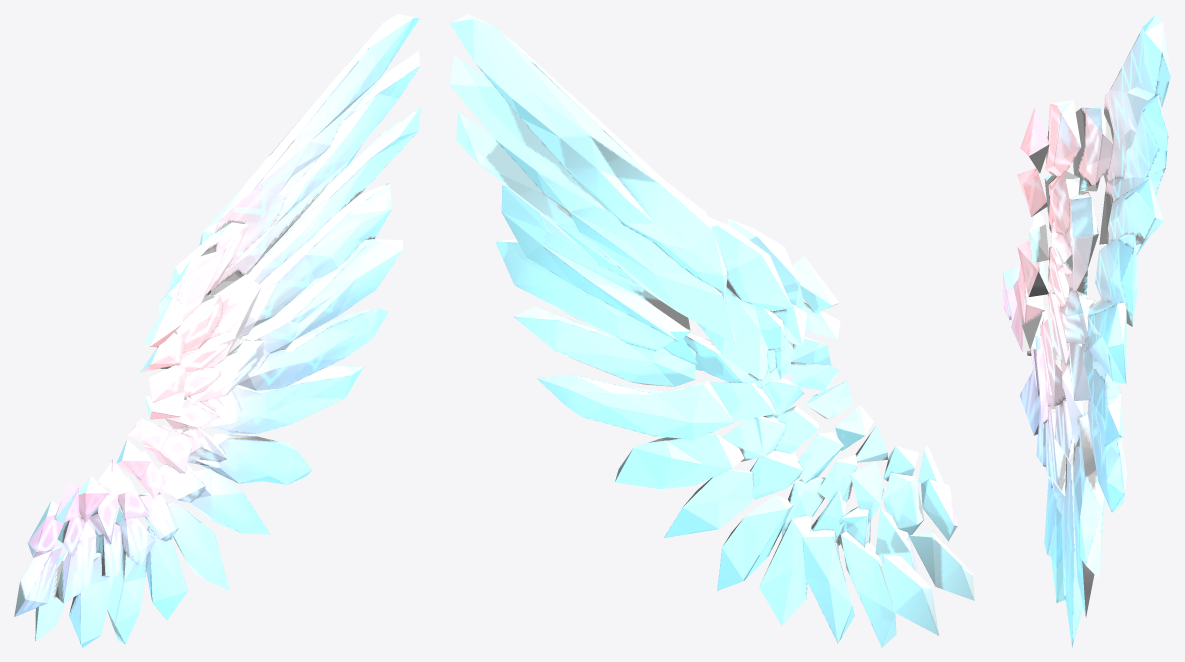
The model's file is wing.glb.
3 views of the same model, side by side, from view 1: azimuth 30°, elevation 25°; view 2: azimuth 150°, elevation 25°; view 3: azimuth 270°, elevation 25° (orthographic). The views are drawn at different scales.
Visible parts, largest first — view 1: Plane.009; view 2: Plane.009; view 3: Plane.009.
Part boxes in pixels (x1,y1,x2,y2): Plane.009: [14, 14, 420, 647]; Plane.009: [449, 14, 974, 647]; Plane.009: [1003, 14, 1170, 647].
Bounding box in the file's own units: 1.05 × 1.19 × 0.2221.
Materials: 1 (1 with a texture image).
